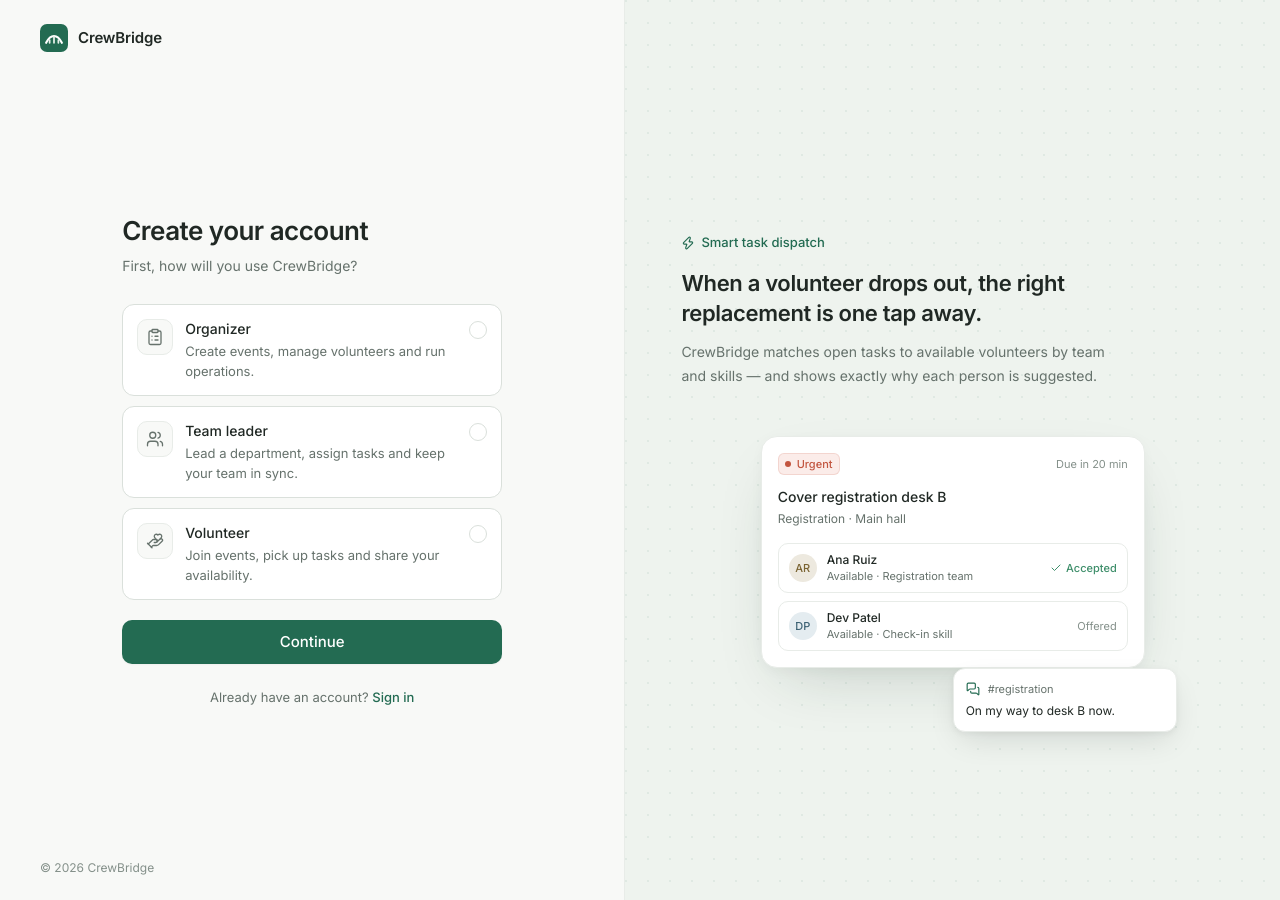
Scenario: RegisterPage › requires a role before continuing
Click the button "Continue" at (312, 642), box [122,620,502,664]
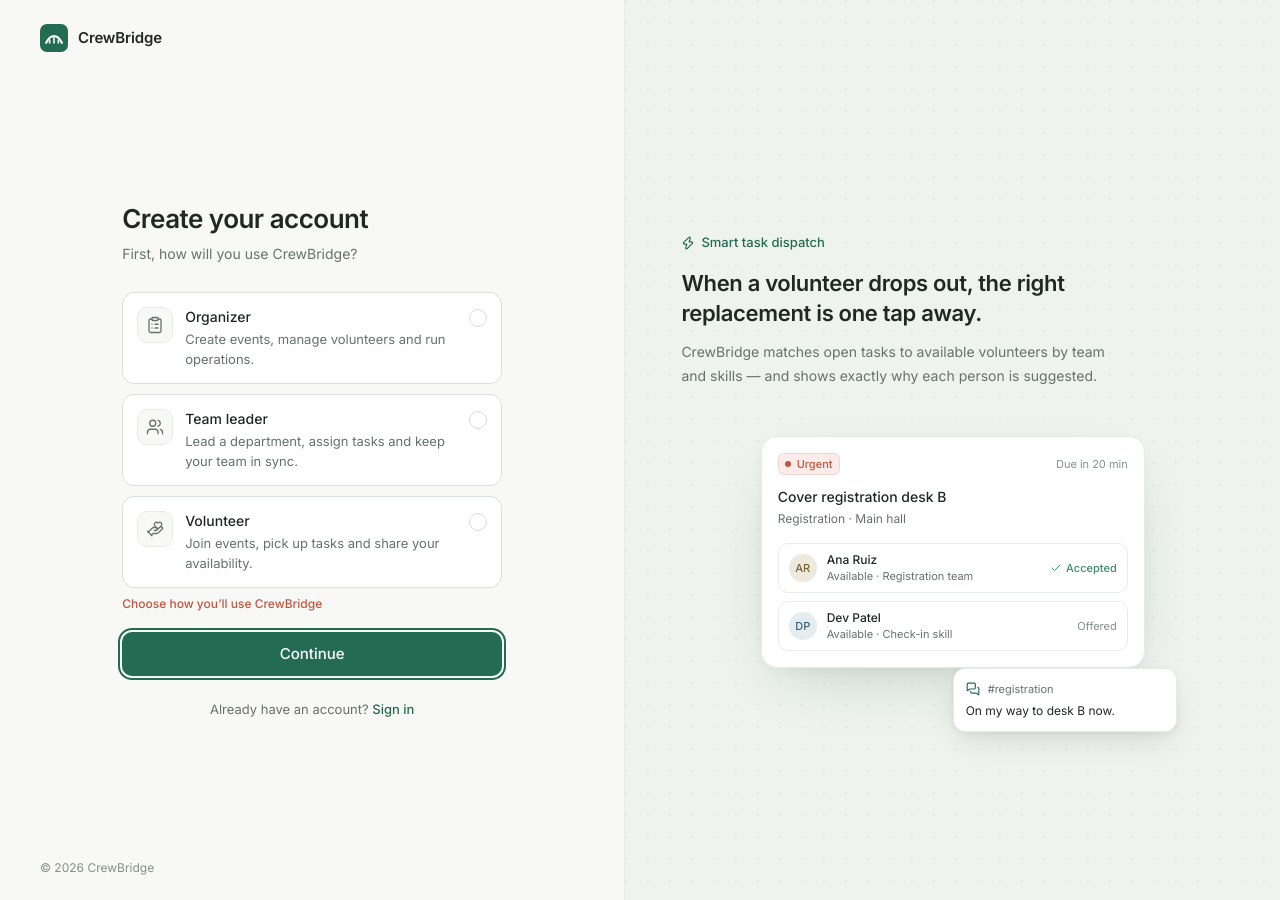
Result: the text "Choose how you’ll use CrewBridge" is shown at [122,596,322,611]
